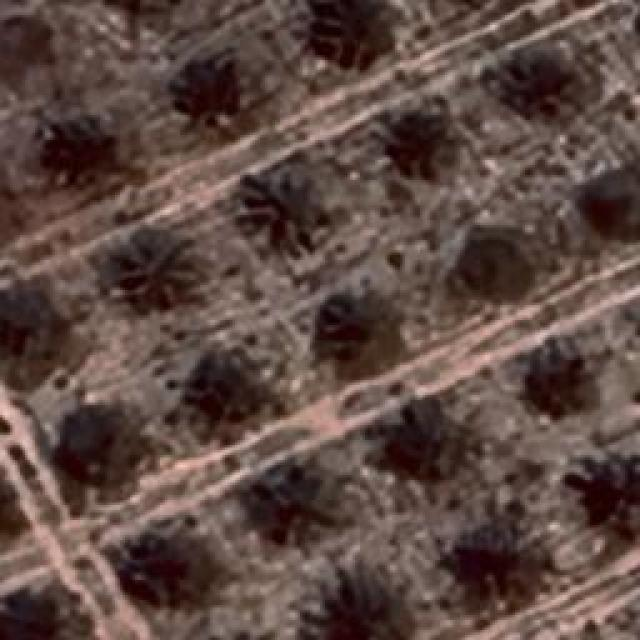PalmTree: (39, 46, 81, 616), (114, 226, 186, 319), (128, 536, 218, 609), (456, 514, 534, 598), (58, 414, 138, 488), (388, 398, 464, 472), (321, 572, 399, 640), (190, 355, 260, 430), (264, 464, 346, 528), (388, 106, 462, 176), (500, 52, 580, 116), (580, 451, 640, 534), (0, 274, 55, 362), (530, 348, 592, 426), (454, 234, 528, 296), (42, 121, 110, 184), (582, 164, 640, 236), (315, 0, 382, 62), (324, 292, 378, 362), (170, 64, 240, 118), (264, 182, 316, 250), (81, 9, 145, 46), (0, 468, 25, 552), (102, 0, 188, 14), (0, 468, 15, 548), (102, 0, 188, 10), (0, 468, 11, 546)
